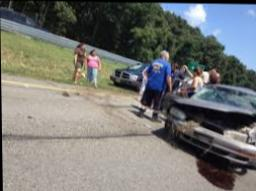Bonnet: (176, 98, 256, 134)
Windshield: (191, 83, 256, 111)
